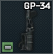GP-34 underbarrel grenade launcher: (0, 0, 53, 54)
